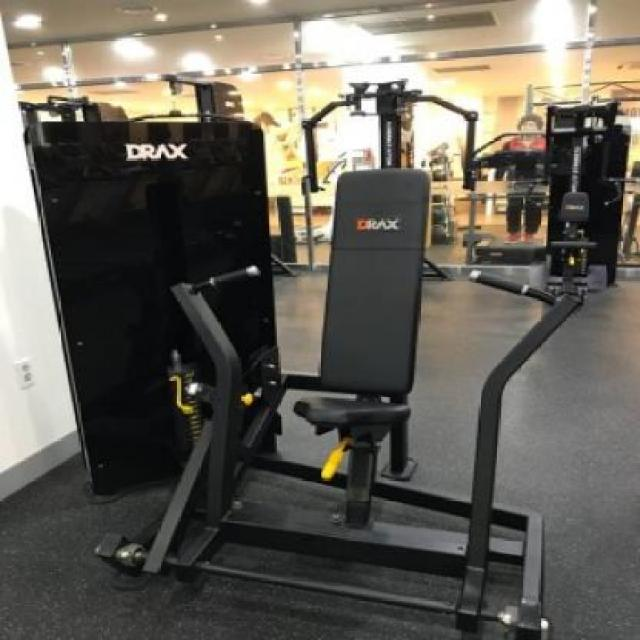Chest Press machine: (19, 80, 608, 640)
